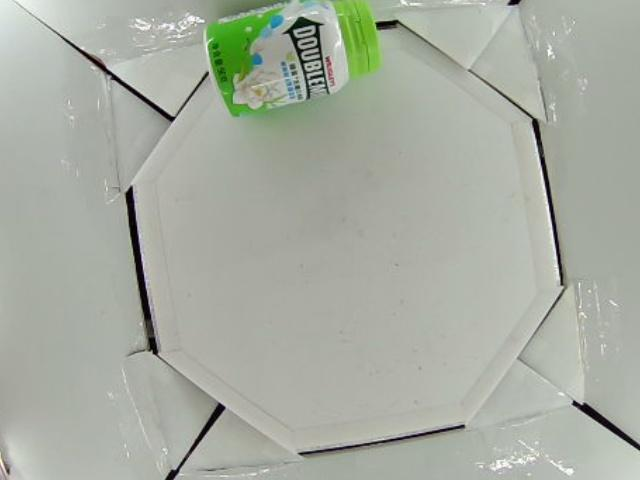Bottle: (202, 1, 383, 120)
